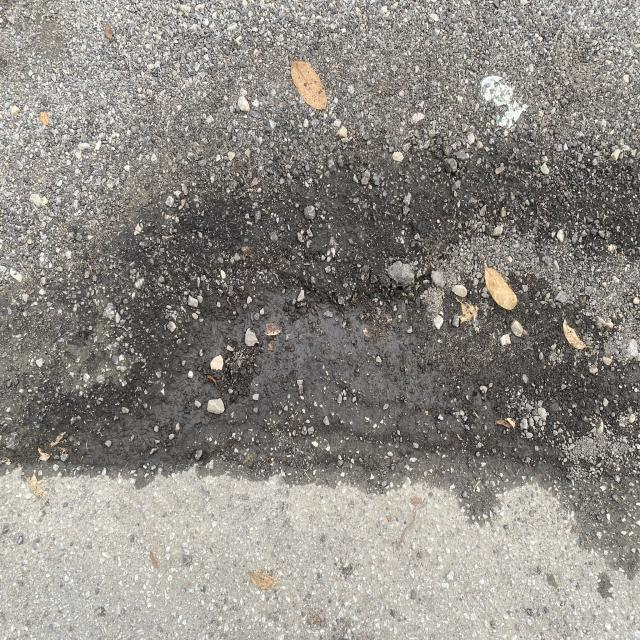pothole: (35, 231, 498, 535)
